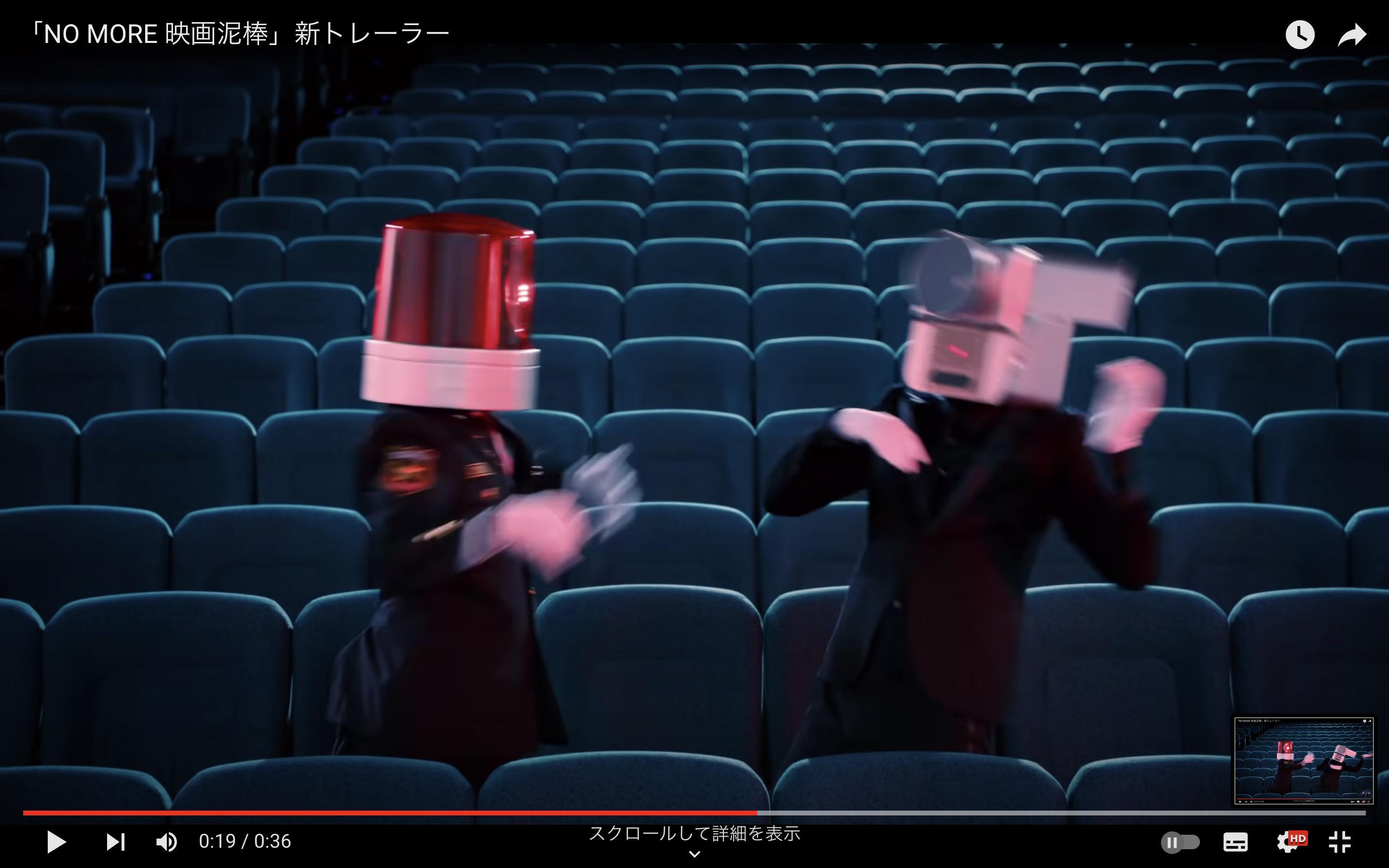no more kid: (887, 217, 1147, 426)
